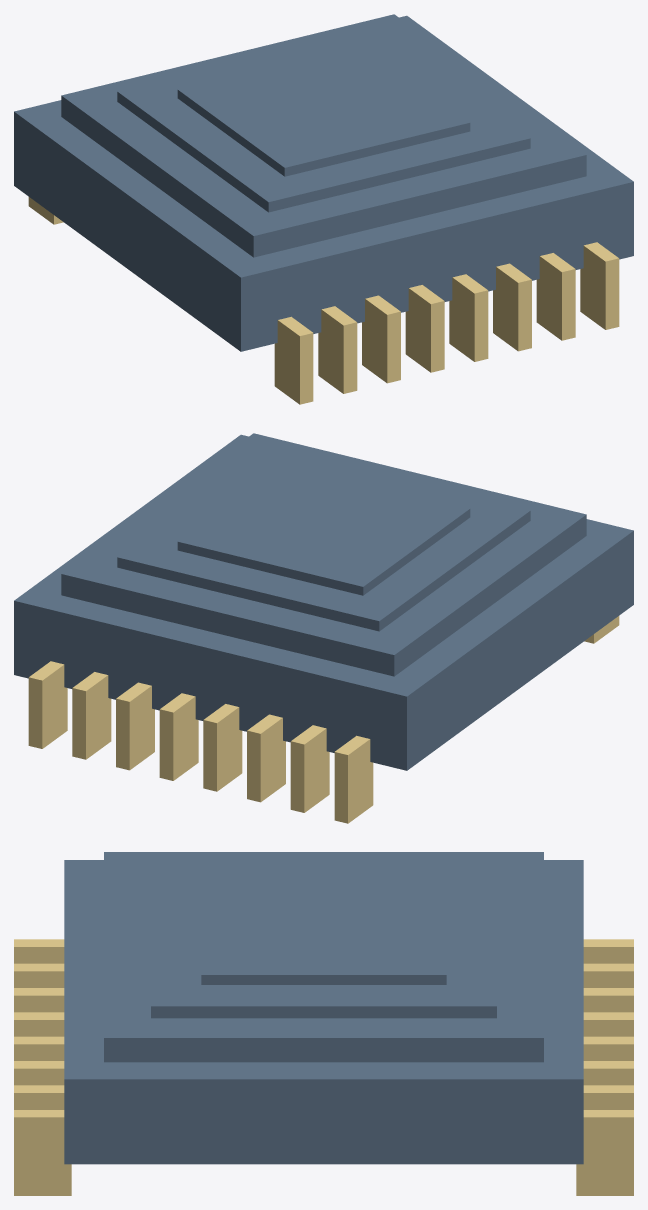
The model's file is procesador.gltf.
3 views of the same model, one above another, from view 1: azimuth 30°, elevation 25°; view 2: azimuth 150°, elevation 25°; view 3: azimuth 270°, elevation 25° (orthographic). The views are drawn at different scales.
Visible parts, largest first — view 1: Parte_1, Parte_2, Parte_4, Parte_3, Parte_6, Parte_9, Parte_12, Parte_11, Parte_8, Parte_5, Parte_10, Parte_7; view 2: Parte_1, Parte_2, Parte_4, Parte_3, Parte_14, Parte_17, Parte_20, Parte_19, Parte_16, Parte_13, Parte_18, Parte_15; view 3: Parte_1, Parte_2, Parte_4, Parte_3, Parte_12, Parte_20, Parte_5, Parte_8, Parte_11, Parte_13, Parte_16, Parte_19 (+8 smaller).
Boxes of the visible parts, <box> form: Parte_1: <box>14,15,633,351</box>; Parte_2: <box>61,14,586,257</box>; Parte_4: <box>177,44,470,176</box>; Parte_3: <box>117,27,530,212</box>; Parte_6: <box>318,306,357,393</box>; Parte_9: <box>449,274,488,361</box>; Parte_12: <box>580,242,619,329</box>; Parte_11: <box>536,253,575,340</box>; Parte_8: <box>405,285,444,372</box>; Parte_5: <box>274,316,313,404</box>; Parte_10: <box>493,263,531,351</box>; Parte_7: <box>362,295,400,383</box>; Parte_1: <box>14,434,633,770</box>; Parte_2: <box>61,433,586,676</box>; Parte_4: <box>177,463,470,595</box>; Parte_3: <box>117,446,530,631</box>; Parte_14: <box>290,725,329,812</box>; Parte_17: <box>159,693,198,780</box>; Parte_20: <box>28,661,67,748</box>; Parte_19: <box>72,672,111,759</box>; Parte_16: <box>203,704,242,791</box>; Parte_13: <box>334,735,373,823</box>; Parte_18: <box>116,682,154,770</box>; Parte_15: <box>247,714,285,802</box>; Parte_1: <box>64,860,583,1164</box>; Parte_2: <box>104,852,543,1062</box>; Parte_4: <box>201,871,446,984</box>; Parte_3: <box>151,860,496,1018</box>; Parte_12: <box>14,1110,71,1195</box>; Parte_20: <box>576,1110,633,1195</box>; Parte_5: <box>14,939,64,963</box>; Parte_8: <box>14,1012,64,1036</box>; Parte_11: <box>14,1085,64,1109</box>; Parte_13: <box>583,939,633,963</box>; Parte_16: <box>583,1012,633,1036</box>; Parte_19: <box>583,1085,633,1109</box>.
Size of the model in its own units: 0.72 by 0.281 by 0.86.
